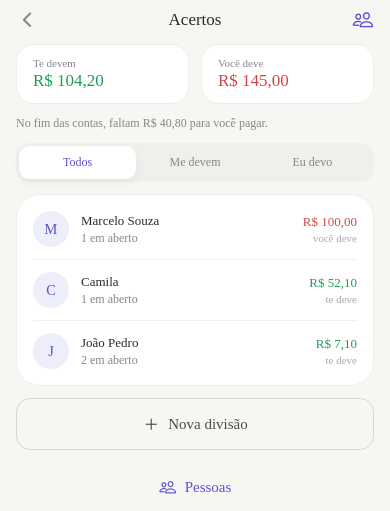
Scenario: Acertos › o filtro "Me devem" esconde quem eu devo
Click the text "Me devem".
click(195, 162)  # box [170,155,220,170]
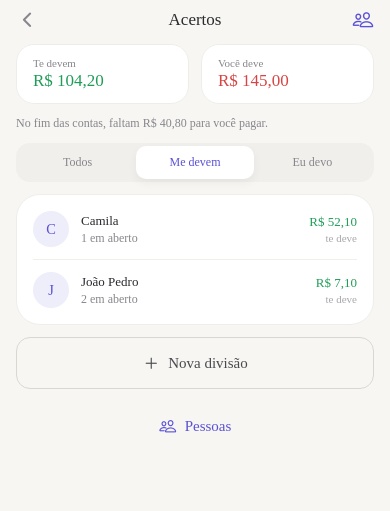
Expected: the text "Camila" is shown, [81,212,118,228]
Result: the text "Marcelo Souza" is gone
